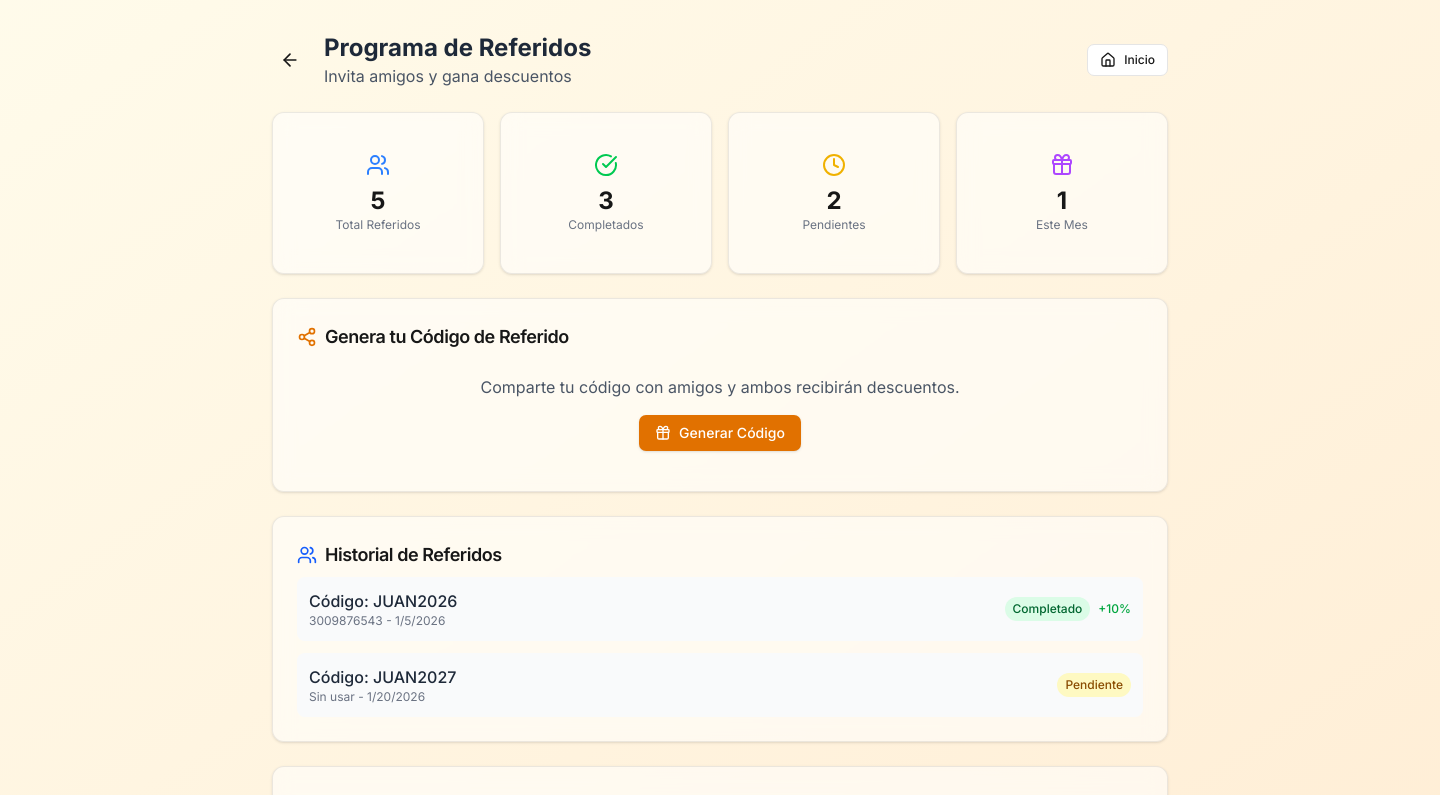
it: ReferidosPage › Generate Code Section › should display generated code after successful generation
Click the button "Generar Código" at (720, 433), box [639,415,801,451]
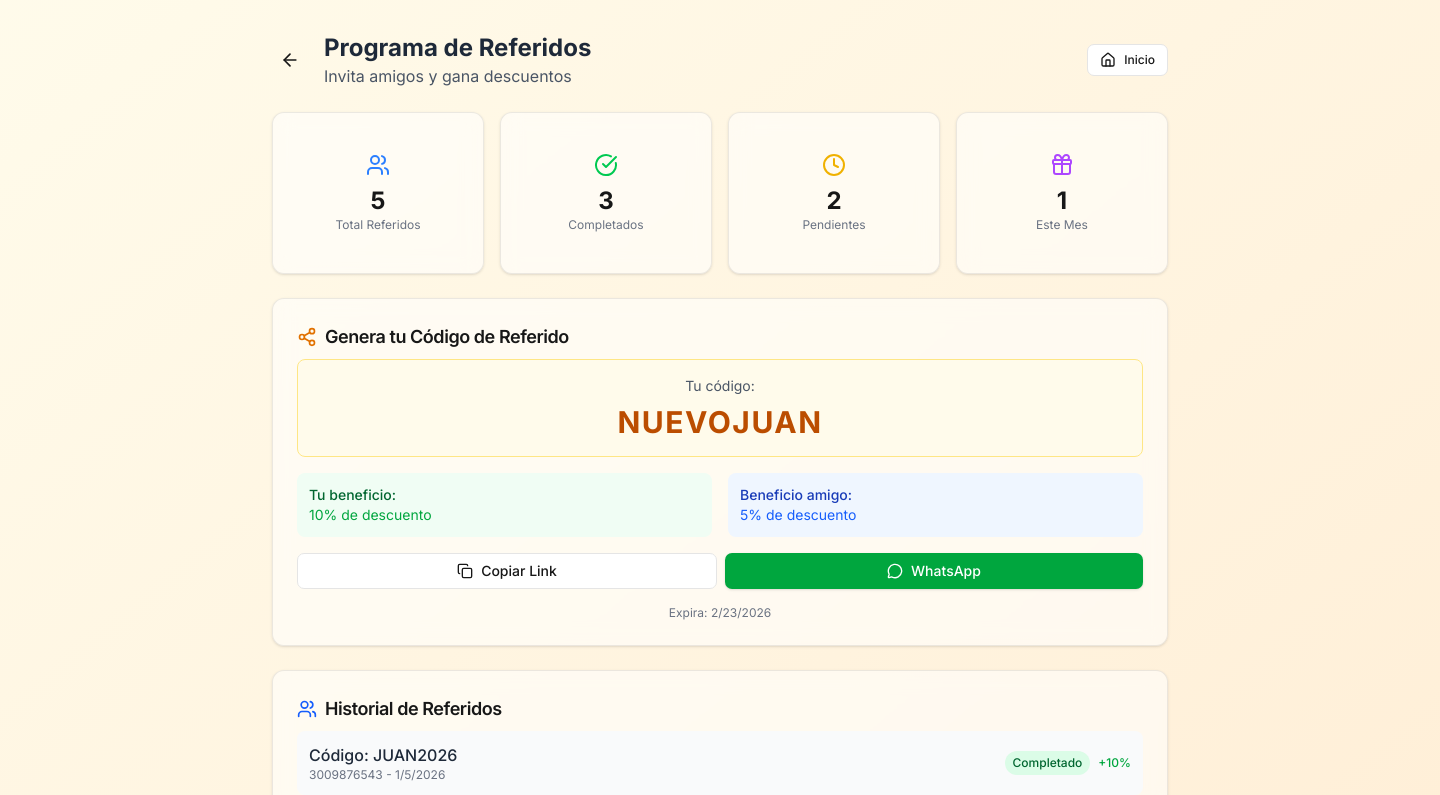
Expected: the text "NUEVOJUAN" is shown, [618,404,822,440]
Expected: the text "Tu código:" is shown, [685,377,755,394]
